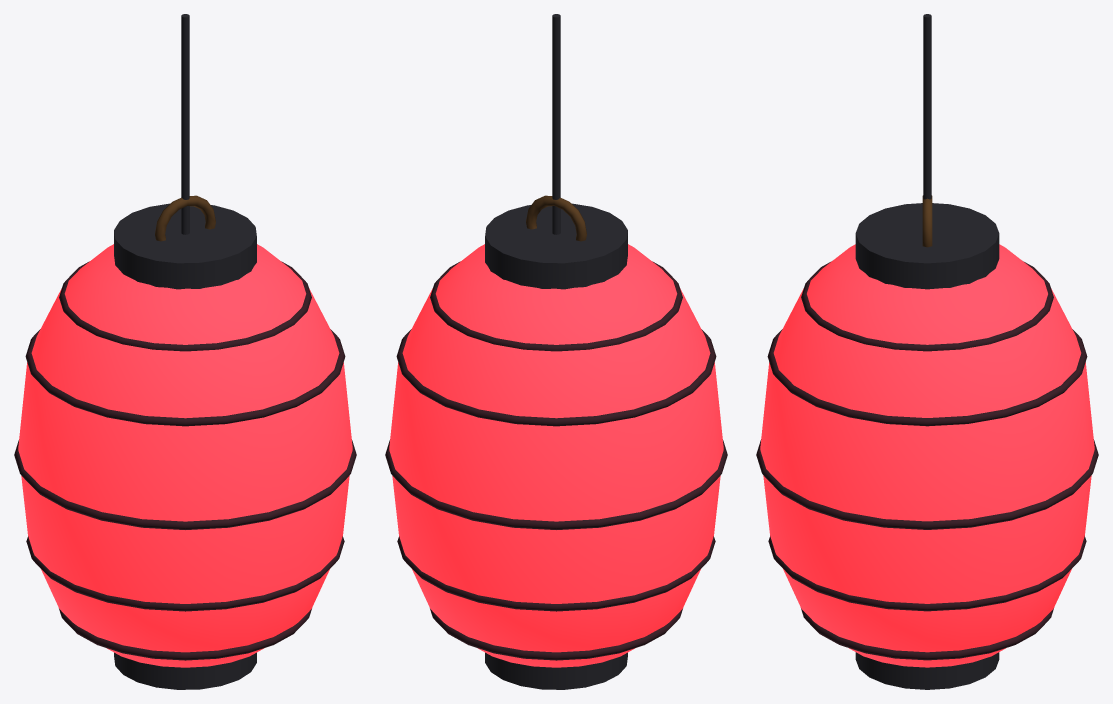
Rendered from mia-paper_lantern.glb.
3 renders of one model, left to right at view 1: azimuth 30°, elevation 25°; view 2: azimuth 150°, elevation 25°; view 3: azimuth 270°, elevation 25°, orthographic.
Visible parts, largest first — view 1: Body_lantern-paper, Body_iron, Body_dark, Body_wood; view 2: Body_lantern-paper, Body_iron, Body_dark, Body_wood; view 3: Body_lantern-paper, Body_iron, Body_dark, Body_wood.
Part boxes in pixels (x1,y1,x2,y2): Body_lantern-paper: (18, 244, 352, 667); Body_iron: (114, 14, 256, 689); Body_dark: (14, 261, 356, 660); Body_wood: (155, 195, 215, 241); Body_lantern-paper: (389, 244, 723, 667); Body_iron: (485, 14, 627, 689); Body_dark: (385, 261, 727, 660); Body_wood: (526, 195, 586, 241); Body_lantern-paper: (760, 244, 1094, 667); Body_iron: (855, 14, 999, 689); Body_dark: (756, 261, 1098, 660); Body_wood: (922, 195, 932, 247).
Size of the model in its own units: 0.42 by 0.871 by 0.42.
